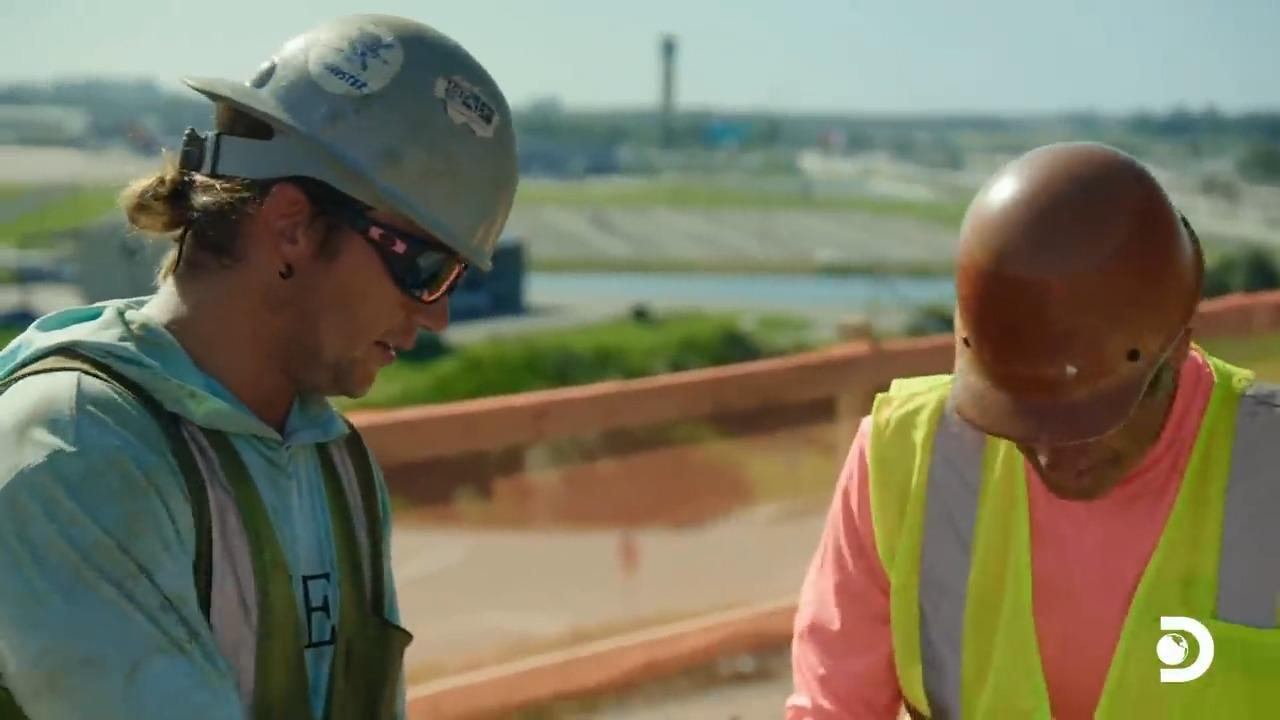Helmet: (913, 136, 1201, 452), (178, 12, 518, 274)
Person: (0, 12, 519, 719), (783, 140, 1279, 719)
Safety Vest: (50, 383, 396, 720)
